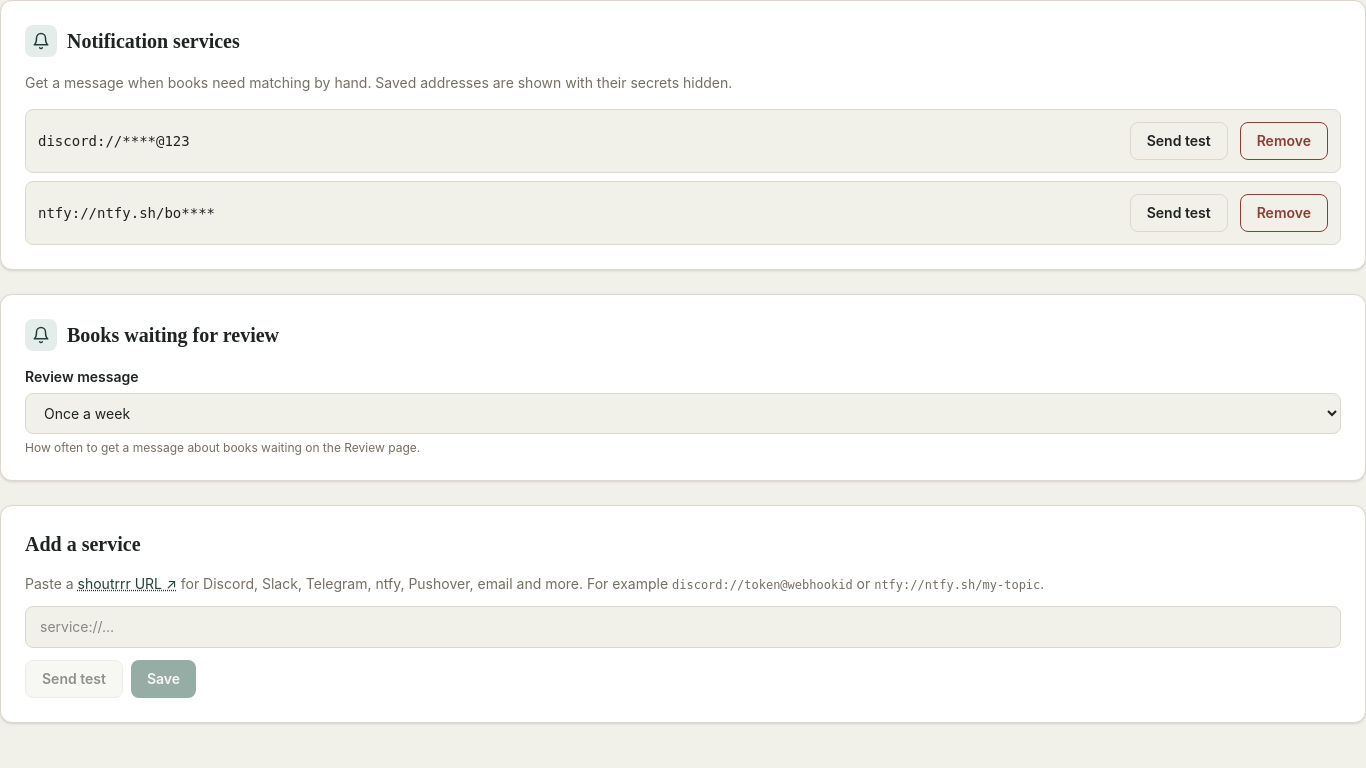
it: NotificationsPage › shows the review message choice and saves it without clobbering other preferences
The image size is (1366, 768).
Expected: the heading "Books waiting for review" is shown, [25,319,279,351]
Step 1. Select "Once a day" in the dropdown labelled "Review message" → {"x": 683, "y": 414}, box [25,393,1341,434]
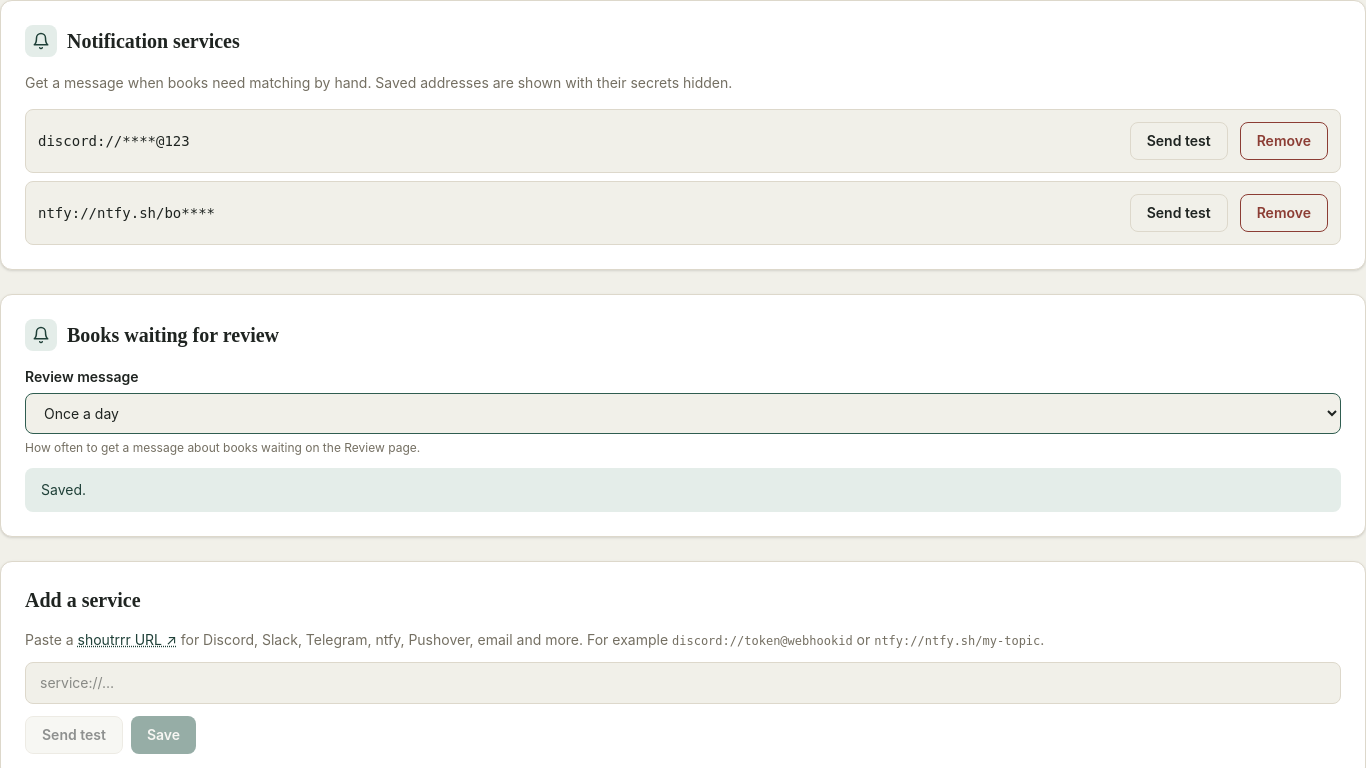
Result: the text "Saved." is shown at [25,468,1341,512]
